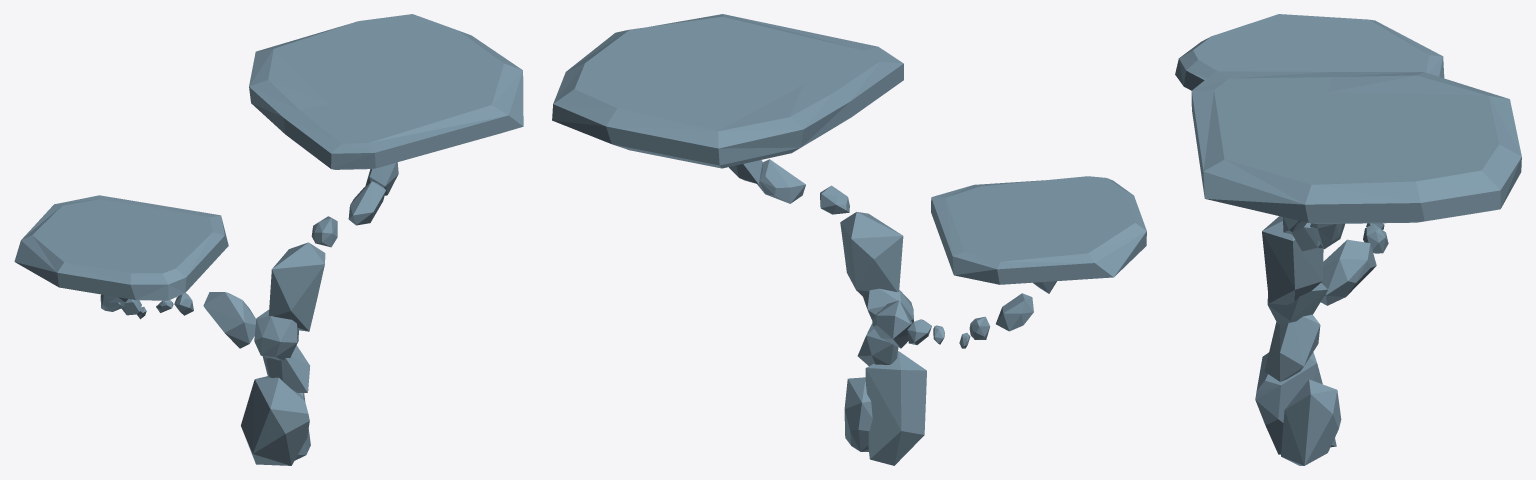
File: StoneTree3.fbx
3 renders of one model, left to right at view 1: azimuth 30°, elevation 25°; view 2: azimuth 150°, elevation 25°; view 3: azimuth 270°, elevation 25°, orthographic. The views are drawn at different scales.
Parts seen in each view (by area): view 1: Cube.064, Cube.065, Cube.066, Cube.070, Cube.069, Cube.068, Cube.067, Cube.081, Cube.080, Cube.075; view 2: Cube.064, Cube.065, Cube.066, Cube.070, Cube.082, Cube.081, Cube.069, Cube.067, Cube.077, Cube.068, Cube.080; view 3: Cube.064, Cube.065, Cube.082, Cube.070, Cube.066, Cube.067, Cube.069, Cube.068, Cube.075, Cube.081, Cube.071.
Boxes of the visible parts, <box> form: Cube.064: <box>249,14,523,169</box>; Cube.065: <box>14,195,228,300</box>; Cube.066: <box>241,376,309,465</box>; Cube.070: <box>268,242,325,331</box>; Cube.069: <box>203,292,256,348</box>; Cube.068: <box>254,309,298,360</box>; Cube.067: <box>262,345,309,392</box>; Cube.081: <box>348,181,385,225</box>; Cube.080: <box>311,216,337,247</box>; Cube.075: <box>365,162,398,195</box>; Cube.064: <box>552,14,903,168</box>; Cube.065: <box>931,176,1146,284</box>; Cube.066: <box>865,351,926,465</box>; Cube.070: <box>840,212,903,296</box>; Cube.082: <box>844,377,872,451</box>; Cube.081: <box>757,159,805,203</box>; Cube.069: <box>872,300,912,348</box>; Cube.067: <box>857,323,898,365</box>; Cube.077: <box>996,293,1033,331</box>; Cube.068: <box>863,288,913,322</box>; Cube.080: <box>820,185,849,214</box>; Cube.064: <box>1191,71,1521,223</box>; Cube.065: <box>1175,14,1444,90</box>; Cube.082: <box>1281,379,1341,465</box>; Cube.070: <box>1262,216,1323,304</box>; Cube.066: <box>1255,352,1336,454</box>; Cube.067: <box>1264,314,1320,381</box>; Cube.069: <box>1321,239,1376,305</box>; Cube.068: <box>1267,283,1327,324</box>; Cube.075: <box>1310,223,1344,249</box>; Cube.081: <box>1291,221,1322,251</box>; Cube.071: <box>1363,223,1388,253</box>.
Size of the model in its own units: 3755 by 2548 by 1952.
